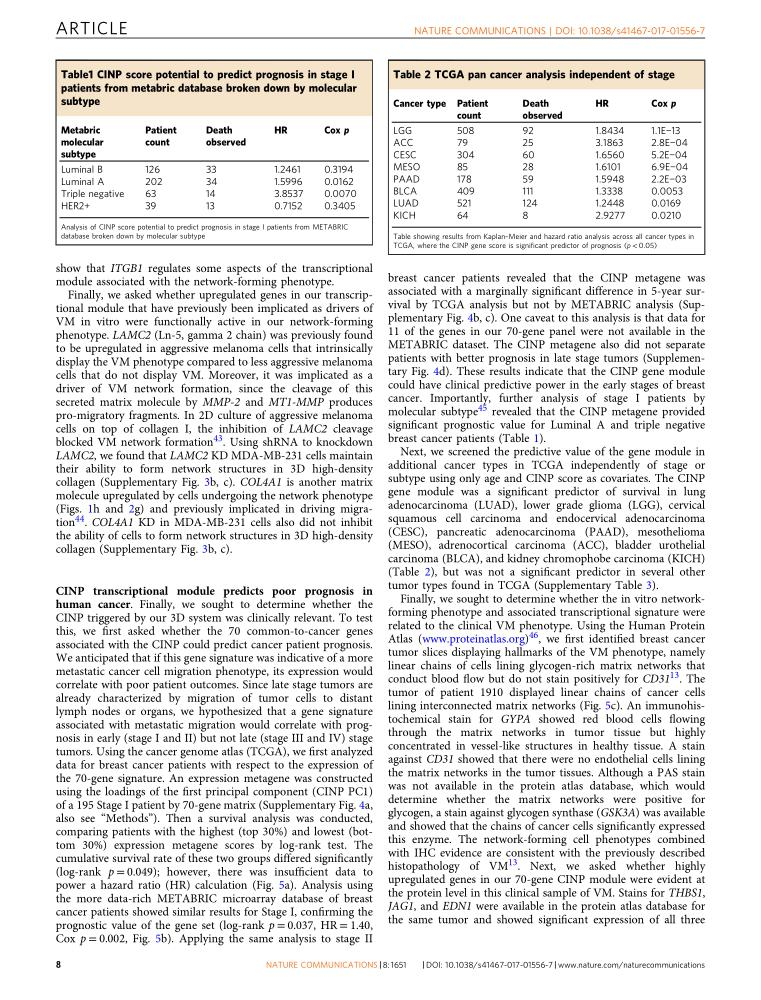table: (392, 97, 687, 220), (60, 124, 356, 211)
